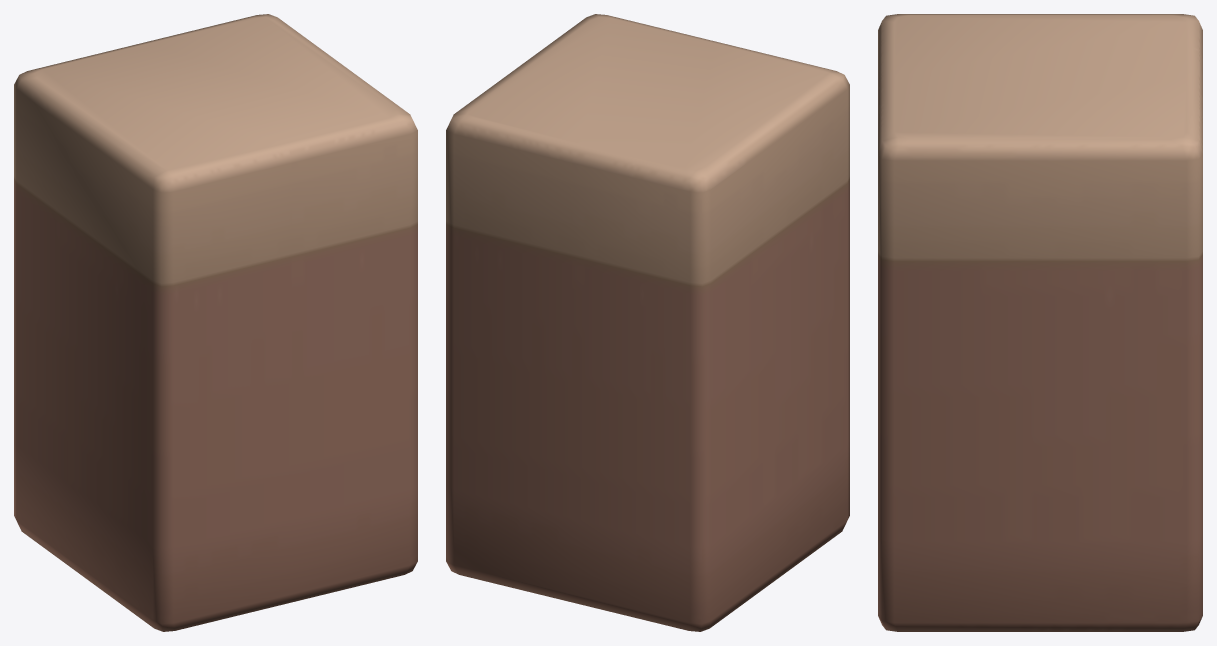
The model's file is Props.fbx.
The picture shows the model from 3 angles, left to right: view 1: azimuth 30°, elevation 25°; view 2: azimuth 150°, elevation 25°; view 3: azimuth 270°, elevation 25°; orthographic projection. The views are drawn at different scales.
Parts seen in each view (by area): view 1: Box03; view 2: Box03; view 3: Box03.
Boxes of the visible parts, left/top/right/bottom form: Box03: left=14, top=14, right=417, bottom=631; Box03: left=446, top=14, right=849, bottom=631; Box03: left=878, top=14, right=1202, bottom=631.
Bounding box in the file's own units: 3 × 5.01 × 3.
1 material, 1 textured.
